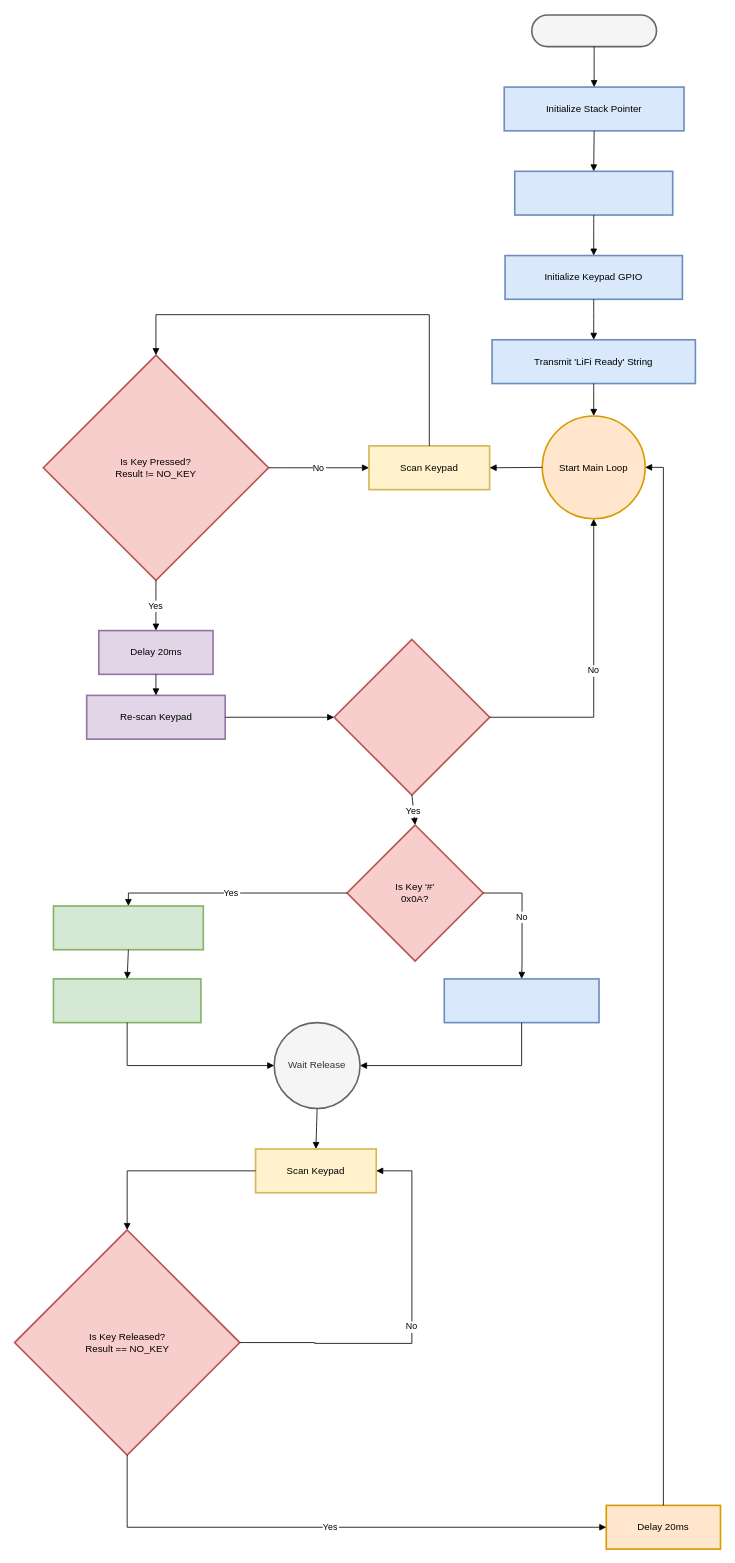
Some shapes in this 735 by 1563 pixel diagram are drawn without their labels. The shapes that lost their labels are listed below. From the top down, each one's centre as x and y in pixels, then its label:
At point (594, 30): "Power On / RESET".
At point (593, 192): "Initialize USART TX".
At point (411, 716): "Matches First Scan?".
At point (128, 927): "Transmit CR 0x0D".
At point (126, 1000): "Transmit LF 0x0A".
At point (521, 1000): "Transmit Key ASCII".
